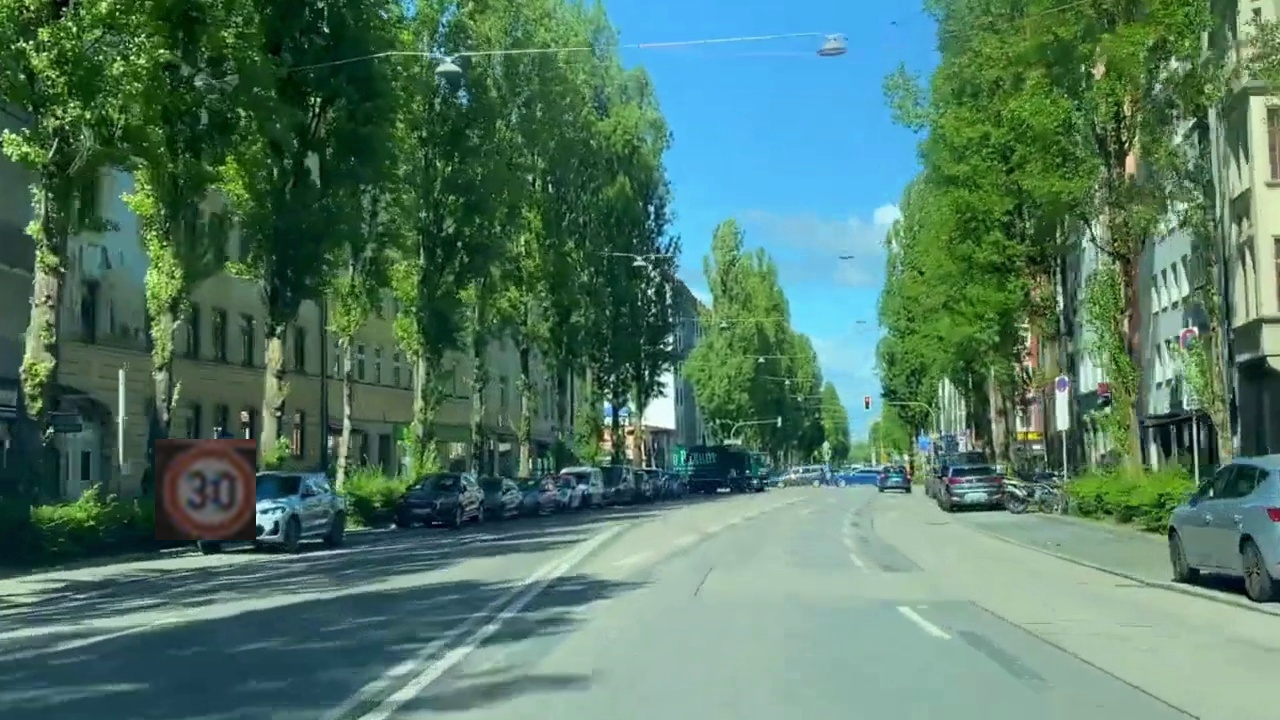Speed 30: (155, 439, 256, 540)
